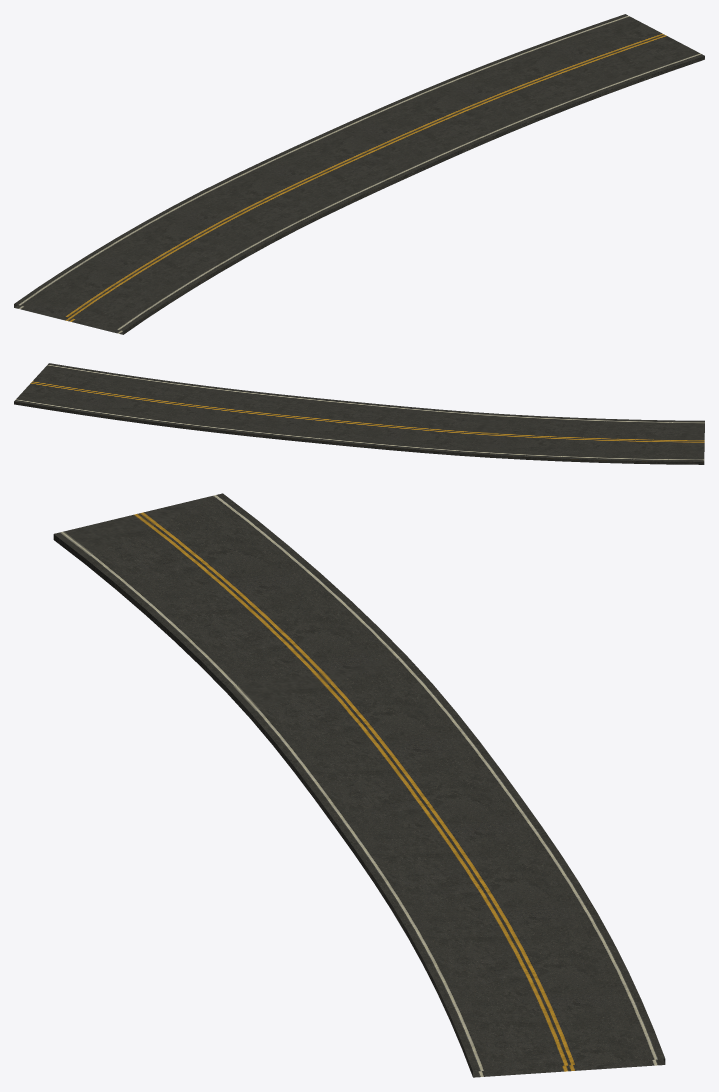
Rendered from SM_Road_02.fbx.
3 renders of one model, top to bottom at view 1: azimuth 30°, elevation 25°; view 2: azimuth 150°, elevation 25°; view 3: azimuth 270°, elevation 25°, orthographic. The views are drawn at different scales.
Parts seen in each view (by area): view 1: SM_Road_02; view 2: SM_Road_02; view 3: SM_Road_02.
Boxes of the visible parts, left/top/right/bottom form: SM_Road_02: left=14, top=14, right=704, bottom=334; SM_Road_02: left=14, top=363, right=704, bottom=464; SM_Road_02: left=53, top=493, right=665, bottom=1077.
Bounding box in the file's own units: 10540 × 4713 × 50.1.
Materials: 1 (1 with a texture image).
